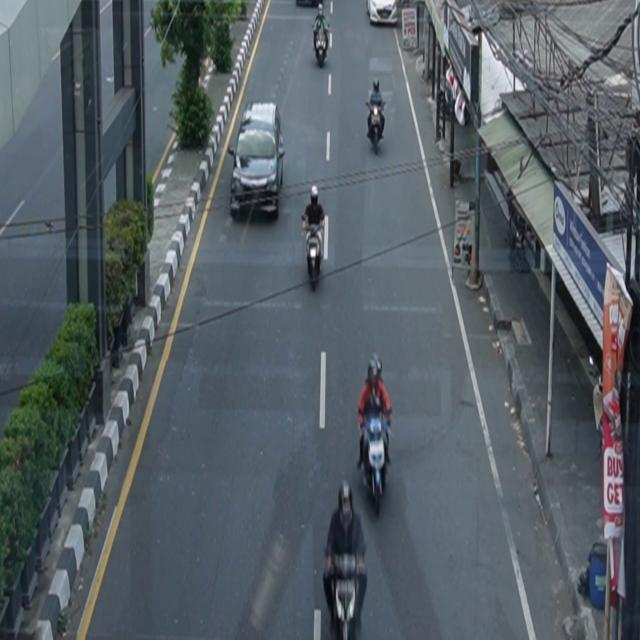car: (228, 101, 286, 221), (367, 1, 398, 26)
